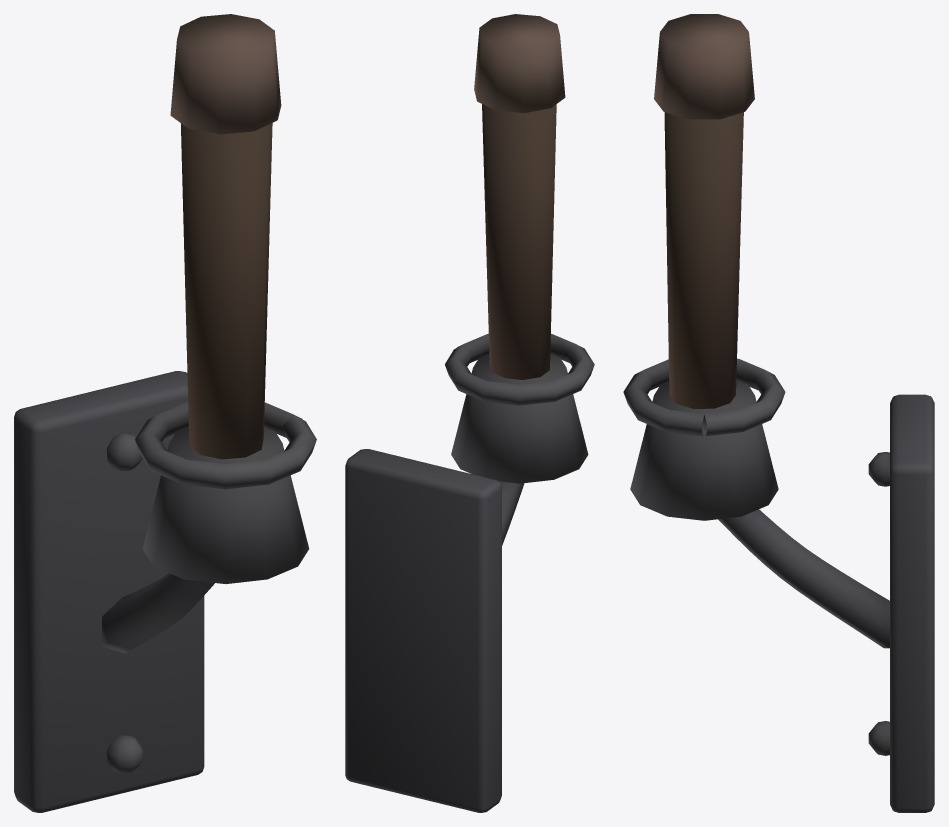
Rendered from kit_sconce.glb.
3 renders of one model, left to right at view 1: azimuth 30°, elevation 25°; view 2: azimuth 150°, elevation 25°; view 3: azimuth 270°, elevation 25°, orthographic. The views are drawn at different scales.
Visible parts, largest first — view 1: kit_sconce; view 2: kit_sconce; view 3: kit_sconce.
Part boxes in pixels (box(x1,y1,x2,y2)): kit_sconce: box(14, 14, 316, 812); kit_sconce: box(345, 14, 594, 812); kit_sconce: box(623, 14, 934, 812).
Bounding box in the file's own units: 0.12 × 0.555 × 0.2096.
